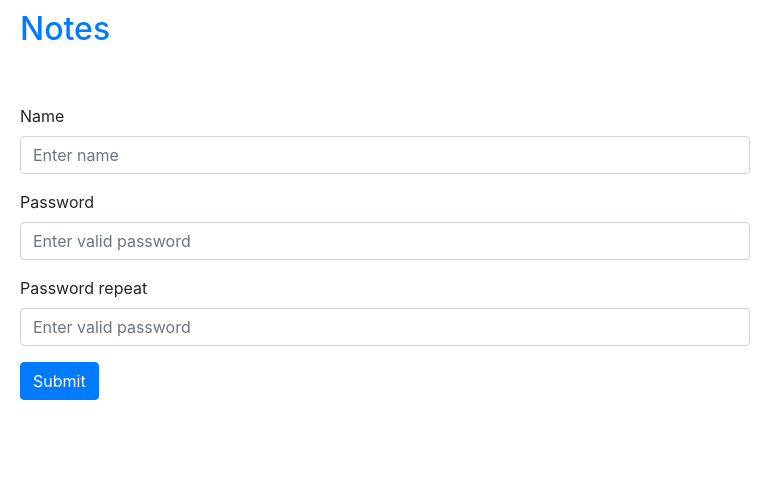
Test: Registration Test › Should display errors on login without credentials
The image size is (767, 493).
Click the button with test id "register" at (60, 381), box 20,362 -> 99,400
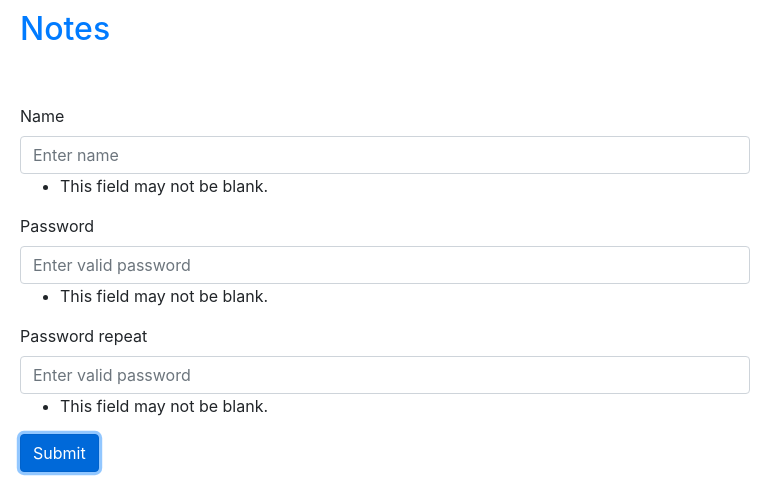
expect the list item with test id "name-error" reads "This field may not be blank.": met, box 60,176 -> 268,196
expect the list item with test id "password-error" reads "This field may not be blank.": met, box 60,286 -> 268,306
expect the list item with test id "password-confirm-error" reads "This field may not be blank.": met, box 60,396 -> 268,416
